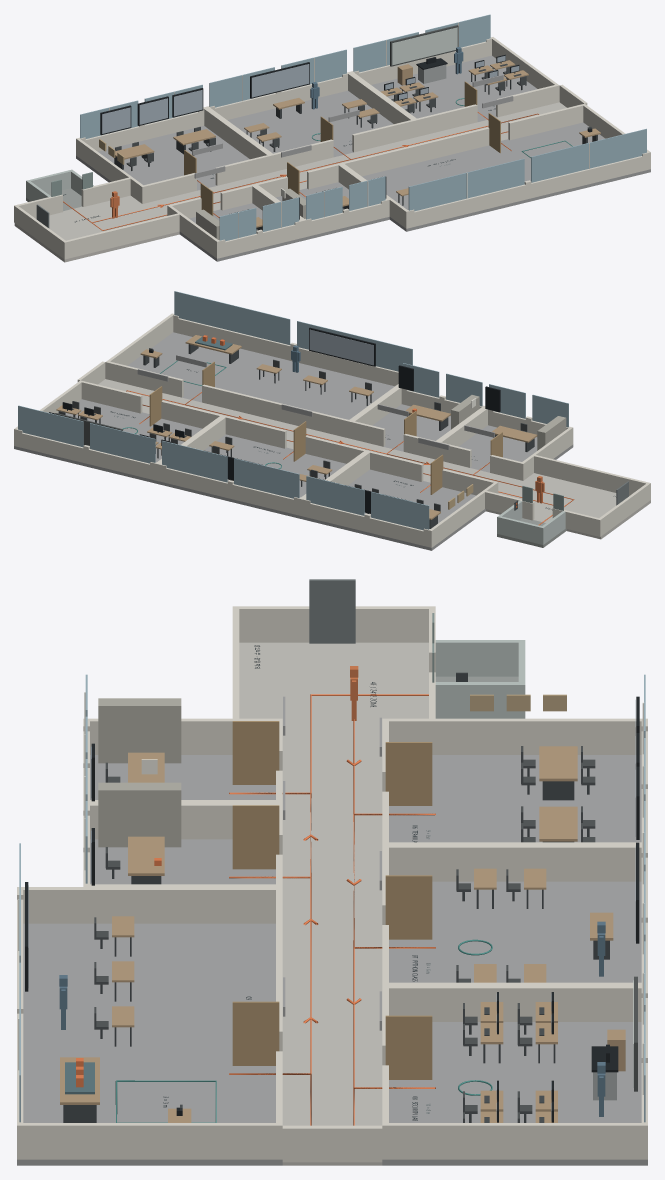
Rendered from floor4.glb.
The picture shows the model from 3 angles, top to bottom: view 1: azimuth 30°, elevation 25°; view 2: azimuth 150°, elevation 25°; view 3: azimuth 270°, elevation 25°; orthographic projection. The views are drawn at different scales.
Parts seen in each view (by area): view 1: Seongsil_floor4; view 2: Seongsil_floor4; view 3: Seongsil_floor4.
Part boxes in pixels (<box>): Seongsil_floor4: <box>14,14,650,262</box>; Seongsil_floor4: <box>14,291,650,550</box>; Seongsil_floor4: <box>17,579,647,1165</box>.
Bounding box in the file's own units: 37.2 × 2.96 × 19.
